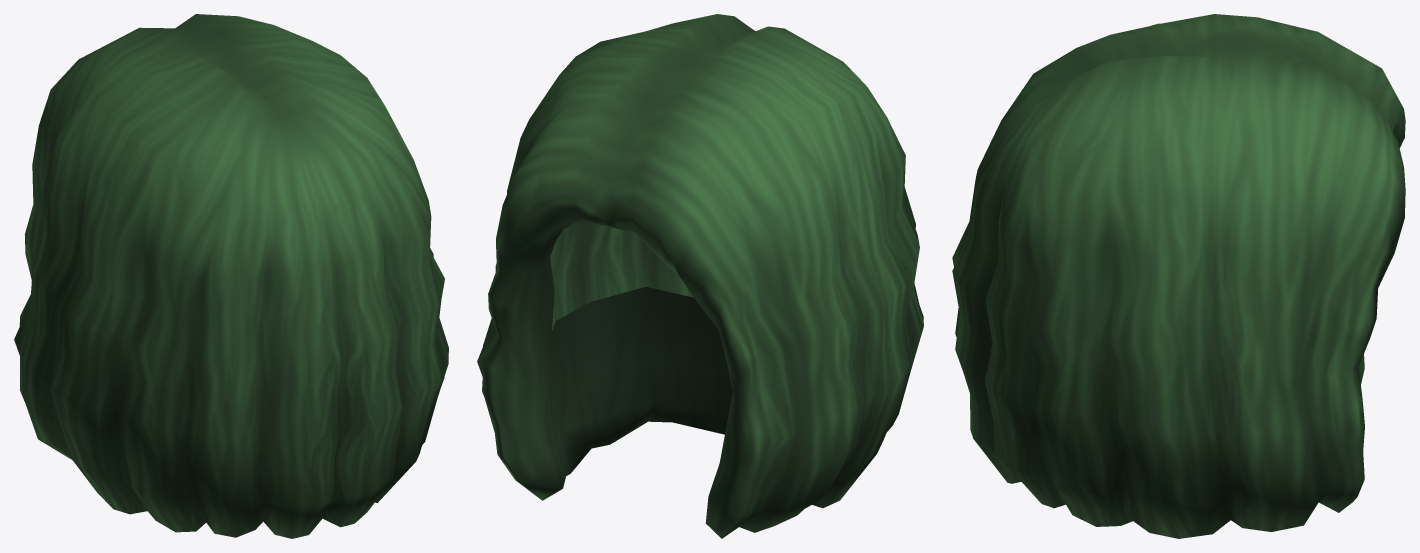
File: Hair_Female_006_textured_green.glb
The picture shows the model from 3 angles, left to right: view 1: azimuth 30°, elevation 25°; view 2: azimuth 150°, elevation 25°; view 3: azimuth 270°, elevation 25°; orthographic projection. The views are drawn at different scales.
Parts seen in each view (by area): view 1: Hair_Female_006; view 2: Hair_Female_006; view 3: Hair_Female_006.
Boxes of the visible parts, bbox=[...] form: Hair_Female_006: bbox=[14, 14, 448, 538]; Hair_Female_006: bbox=[477, 14, 923, 538]; Hair_Female_006: bbox=[952, 14, 1405, 538].
Size of the model in its own units: 0.2471 by 0.277 by 0.2597.
1 material, 1 textured.
